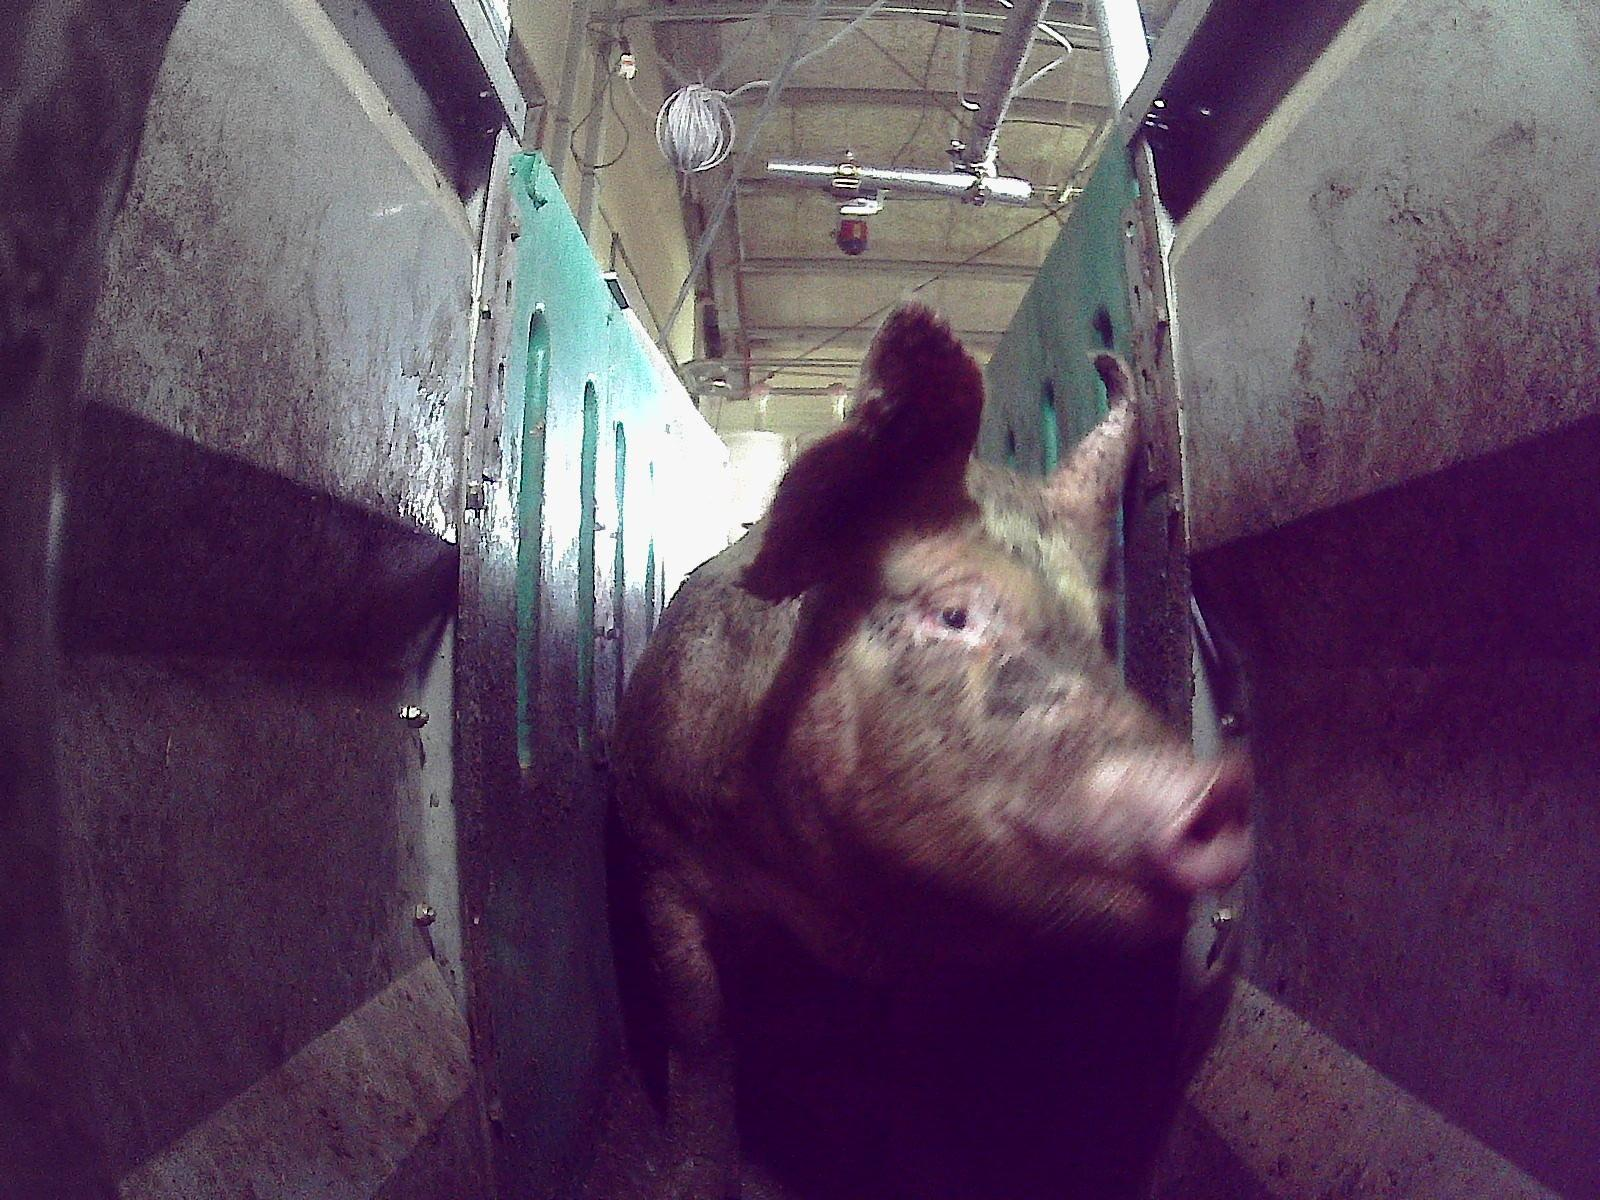Face: (746, 453, 1258, 981)
